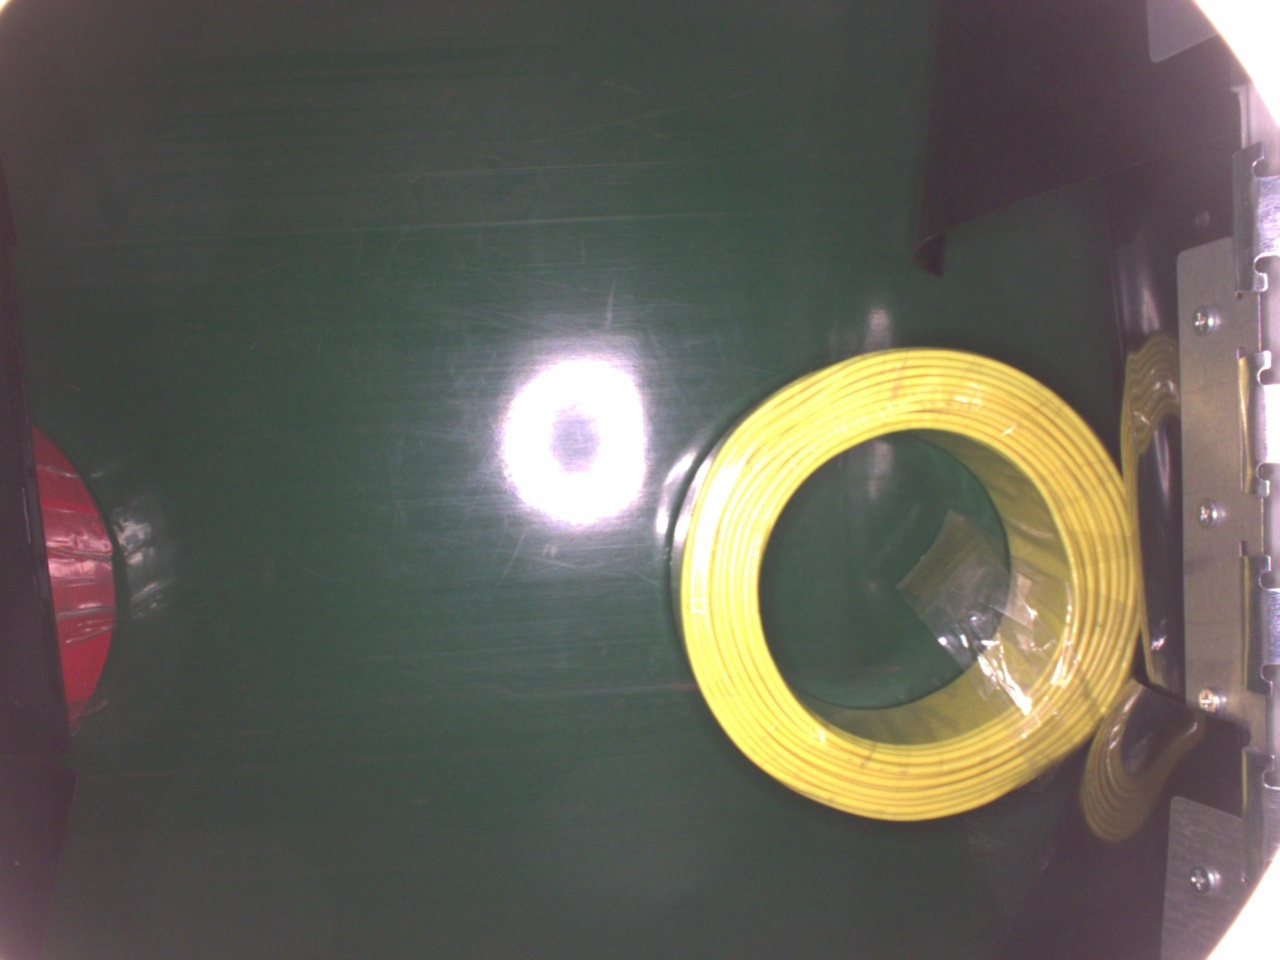yellow: (656, 335, 1147, 826)
